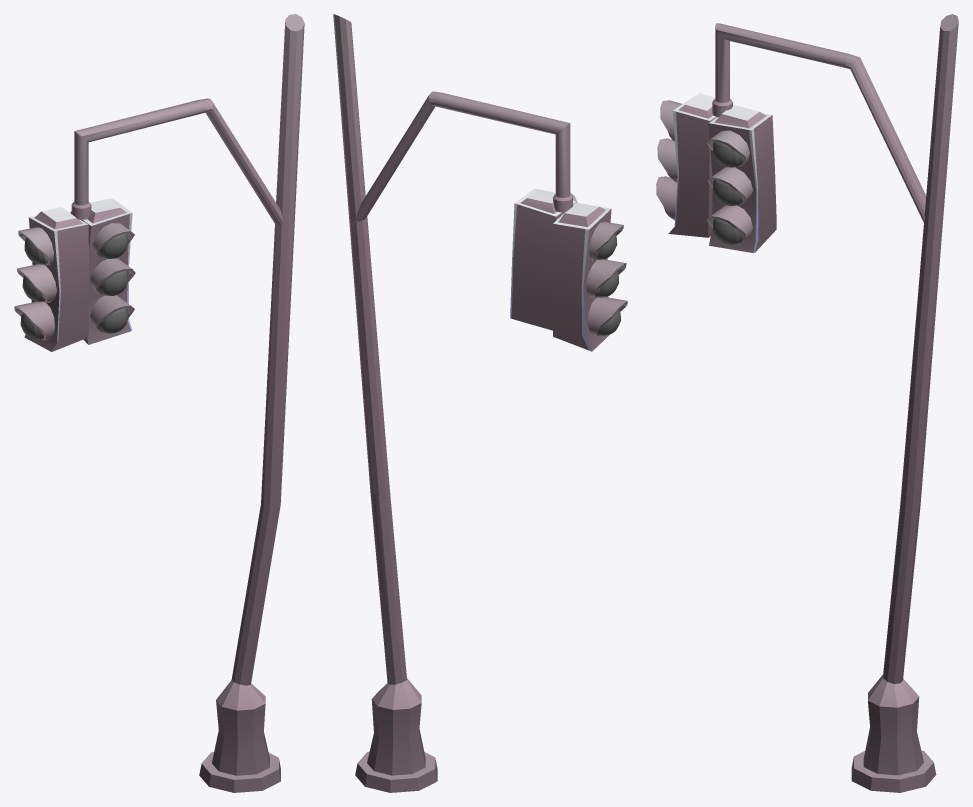
File: SM_TrafficLight.fbx
3 views of the same model, side by side, from view 1: azimuth 30°, elevation 25°; view 2: azimuth 150°, elevation 25°; view 3: azimuth 330°, elevation 25° (orthographic). The views are drawn at different scales.
Parts seen in each view (by area): view 1: Cylinder014; view 2: Cylinder014; view 3: Cylinder014.
Part boxes in pixels (left/top/right/bottom): Cylinder014: left=14, top=14, right=304, bottom=792; Cylinder014: left=333, top=14, right=627, bottom=792; Cylinder014: left=656, top=14, right=958, bottom=792.
Bounding box in the file's own units: 3.58 × 8.87 × 0.9795.
